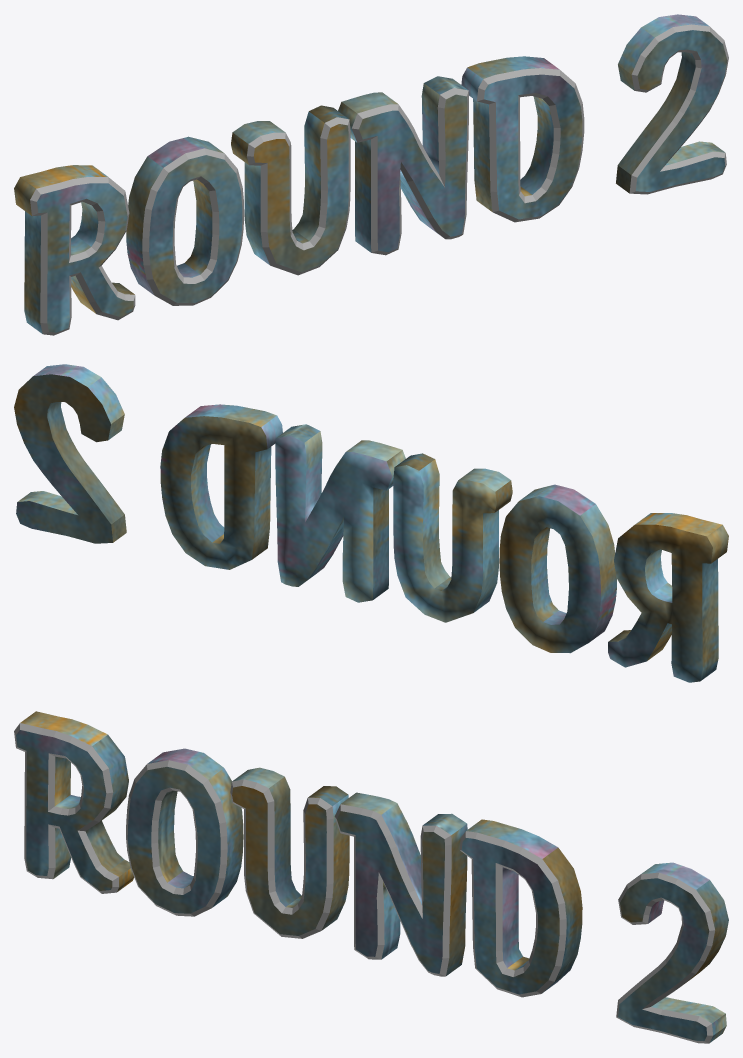
The model's file is Str_Sign_R2_Banner_Art.fbx.
3 views of the same model, one above another, from view 1: azimuth 30°, elevation 25°; view 2: azimuth 150°, elevation 25°; view 3: azimuth 330°, elevation 25° (orthographic).
Visible parts, largest first — view 1: Str_Sign_R2_Banner; view 2: Str_Sign_R2_Banner; view 3: Str_Sign_R2_Banner.
Part boxes in pixels (x1=…): Str_Sign_R2_Banner: x1=14, y1=14, x2=728, y2=335; Str_Sign_R2_Banner: x1=14, y1=364, x2=728, y2=682; Str_Sign_R2_Banner: x1=14, y1=711, x2=728, y2=1043.
Bounding box in the file's own units: 875 × 193 × 40.02.
